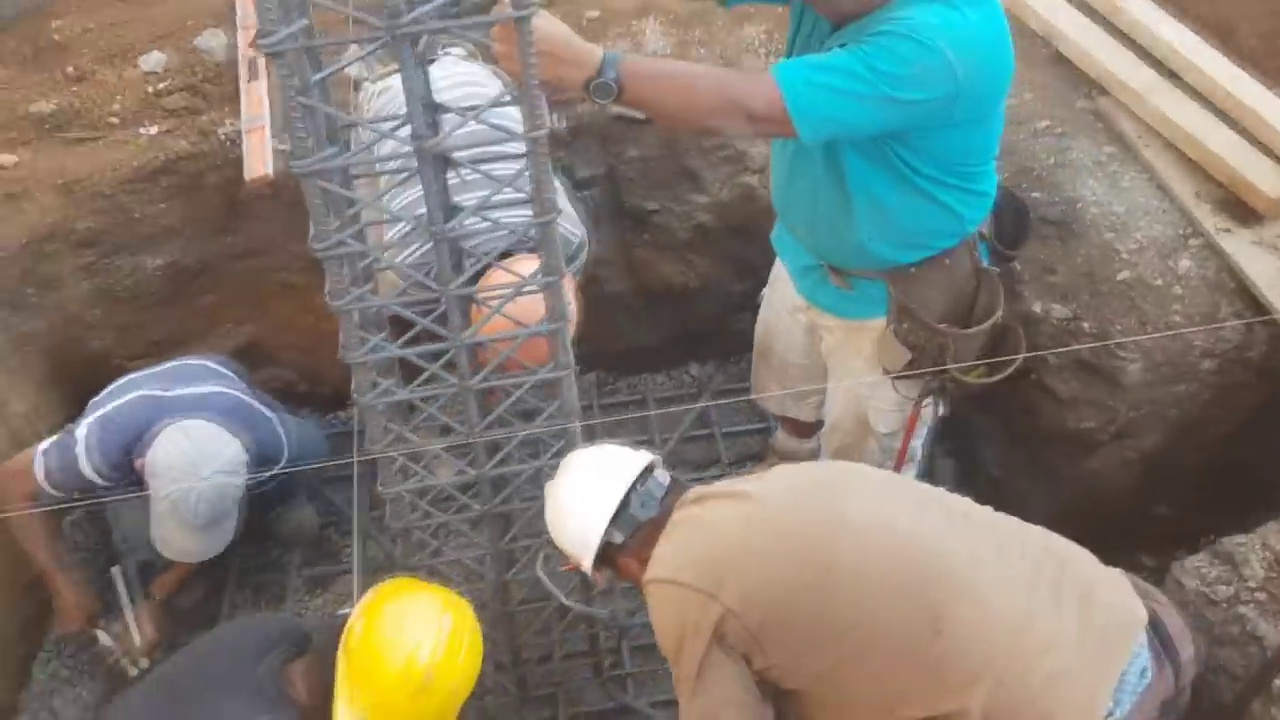helmet: (544, 443, 678, 599), (336, 583, 482, 718), (471, 261, 579, 377)
helmet-off: (133, 420, 259, 562)
helmet-on: (540, 440, 715, 616), (269, 583, 484, 717), (455, 244, 568, 375)
person: (493, 4, 1026, 460), (537, 454, 1198, 720), (0, 344, 329, 659), (349, 39, 592, 389), (100, 579, 492, 716)
